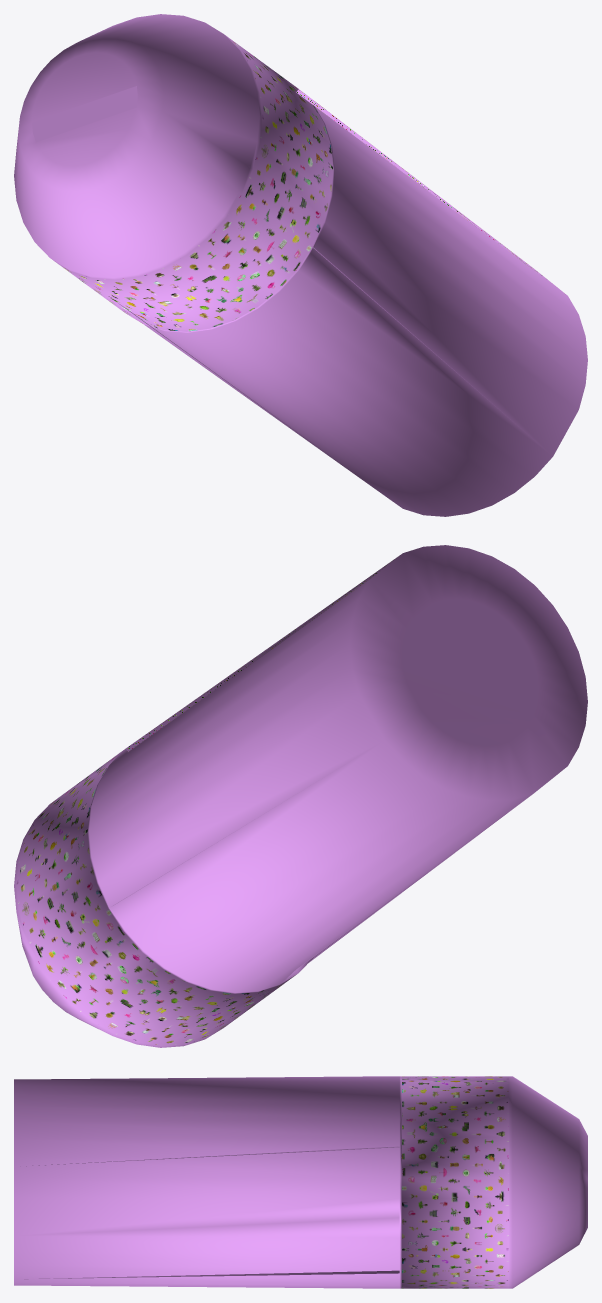
File: AR_paradise_chamber_v3.glb
3 renders of one model, top to bottom at view 1: azimuth 30°, elevation 25°; view 2: azimuth 150°, elevation 25°; view 3: azimuth 270°, elevation 25°, orthographic. The views are drawn at different scales.
Visible parts, largest first — view 1: walls.001; view 2: walls.001; view 3: walls.001.
Part boxes in pixels (box(x1,y1,x2,y2)): walls.001: box(14, 14, 587, 516); walls.001: box(14, 545, 587, 1047); walls.001: box(14, 1076, 587, 1288).
Bounding box in the file's own units: 12.98 × 12.98 × 35.
1 material, 1 textured.
